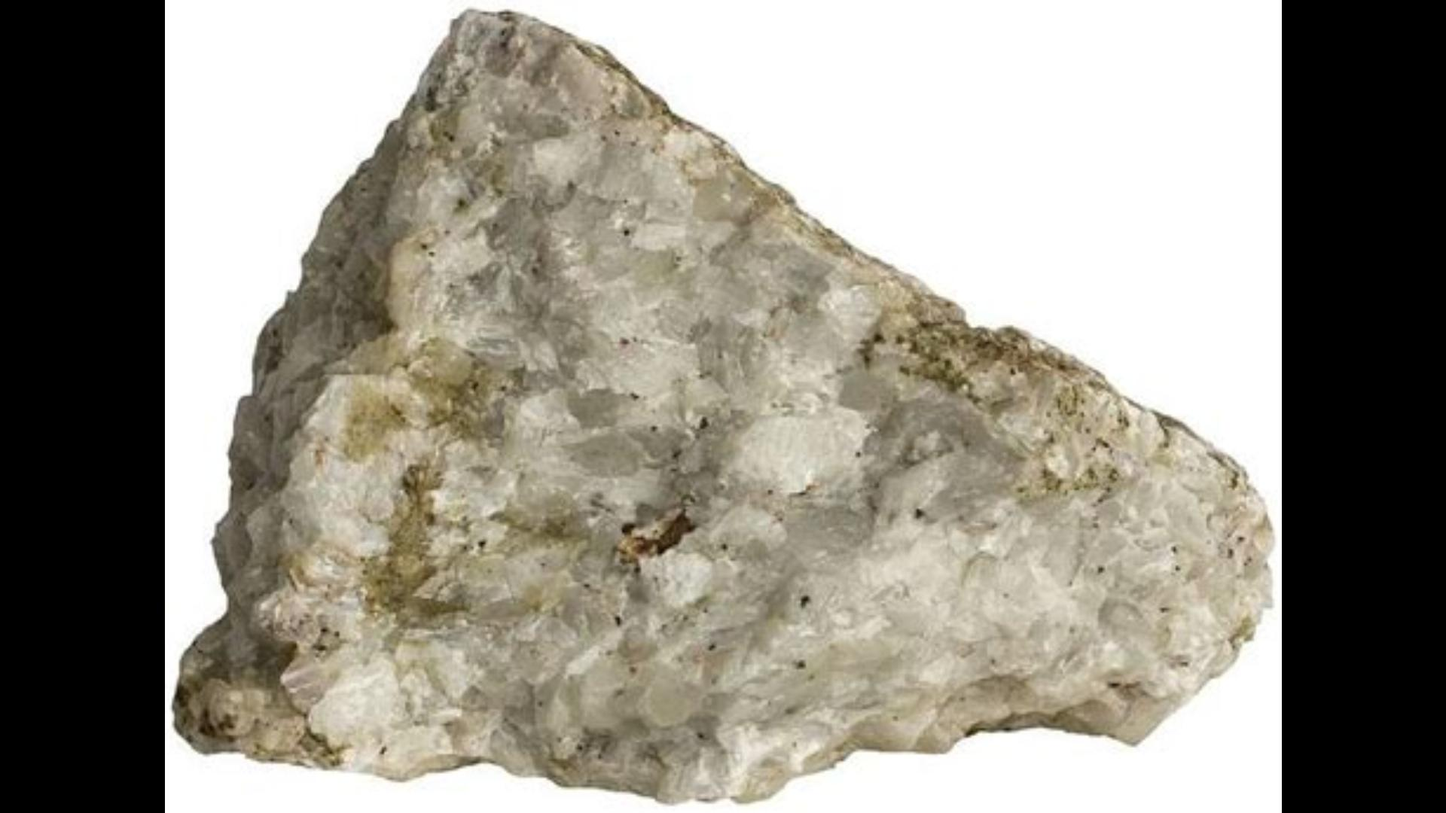rock: (174, 12, 1270, 799)
